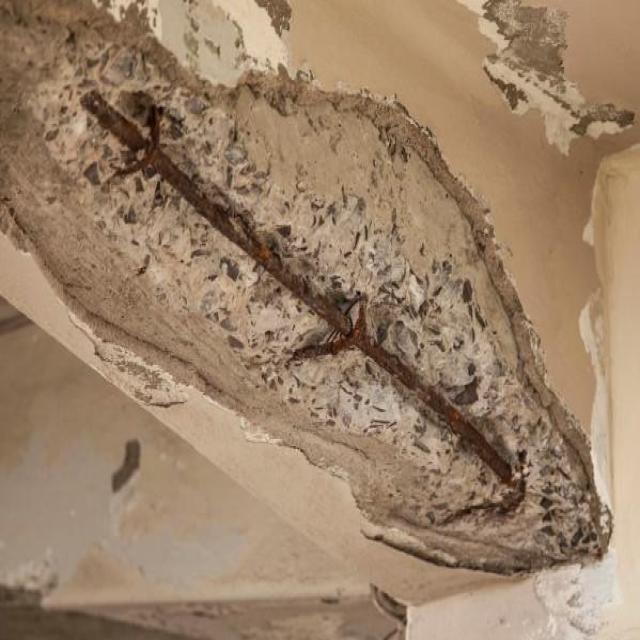Rebar: (0, 0, 613, 577)
